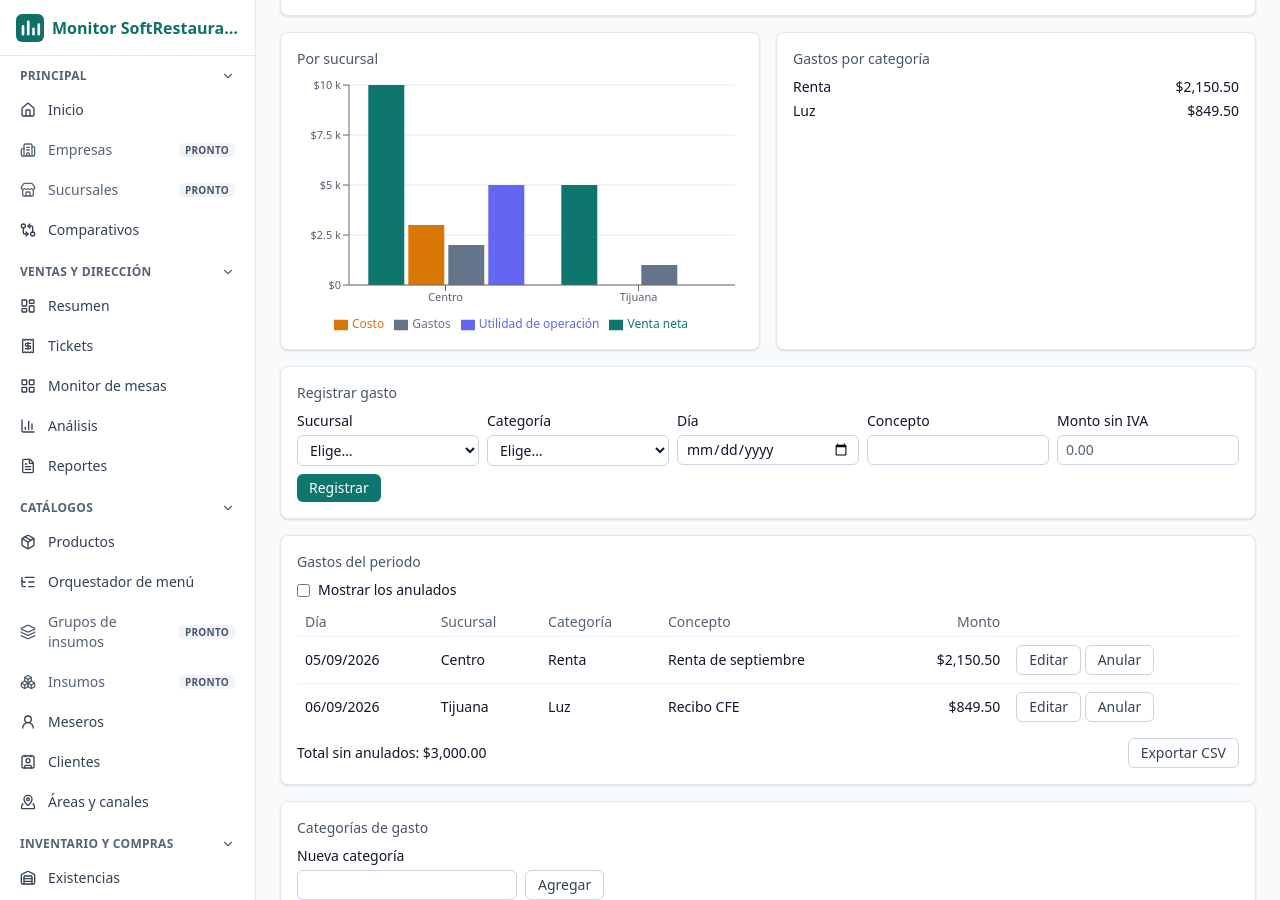
Scenario: captura de gastos › el administrador registra un gasto: POST con el body esperado y todo se vuelve a pedir
(page scrolled)
Select "Centro" in the dropdown labelled "Sucursal" at (388, 450), box x1=297 y1=435 x2=479 y2=466
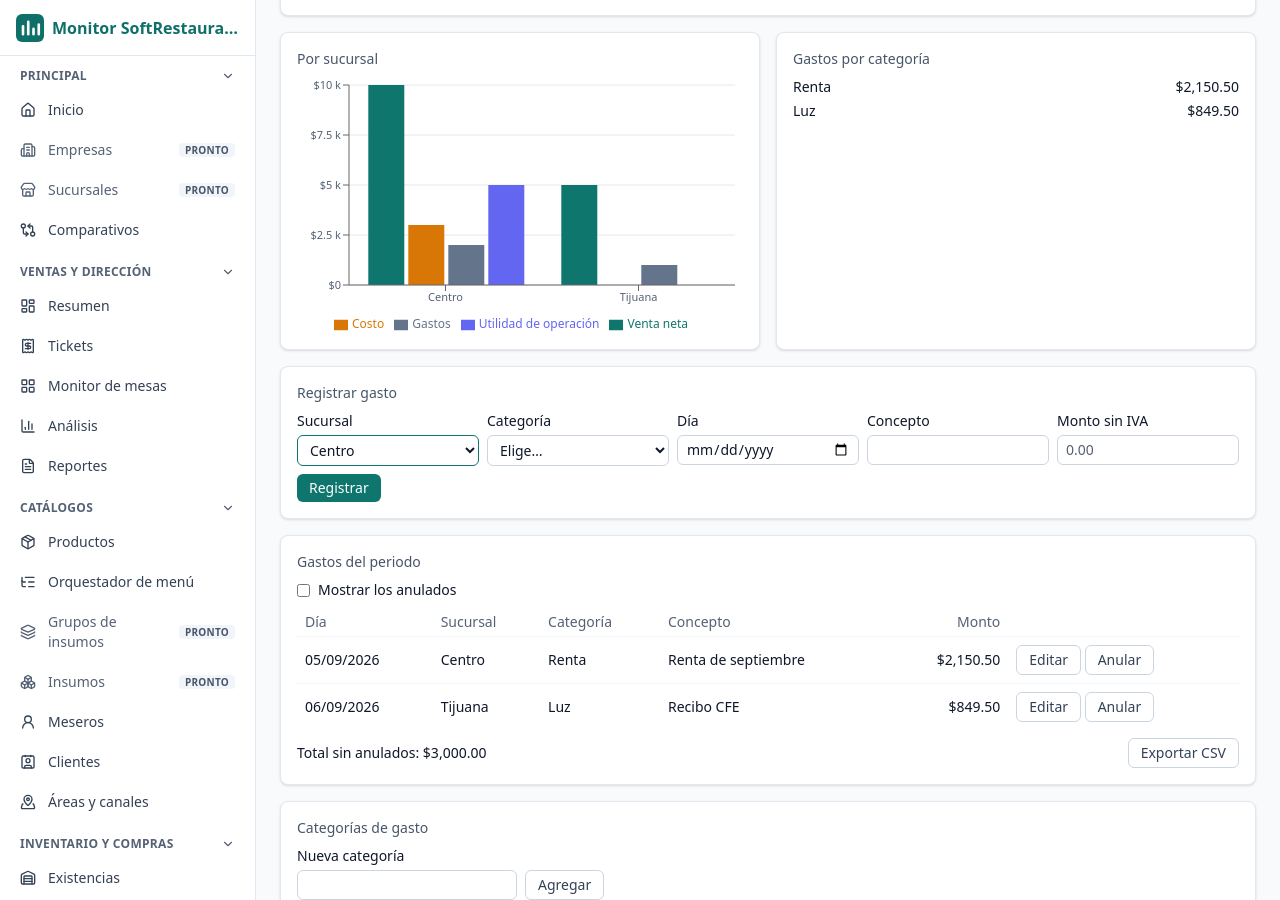
Select "Luz" in the dropdown labelled "Categoría" at (578, 450), box x1=487 y1=435 x2=669 y2=466
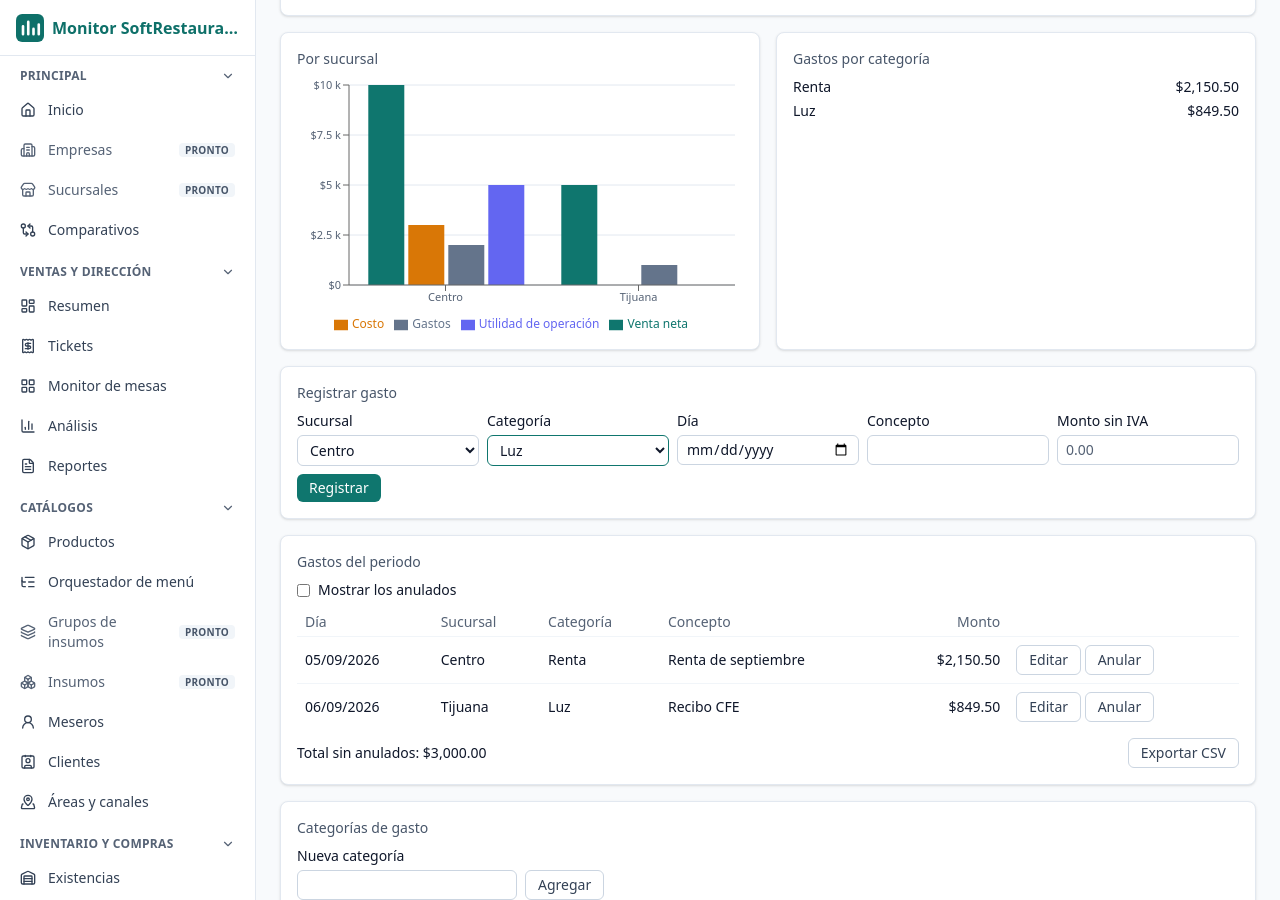
Type "2026-09-20" into the date field labelled "Día" at (768, 450), box x1=677 y1=435 x2=859 y2=465
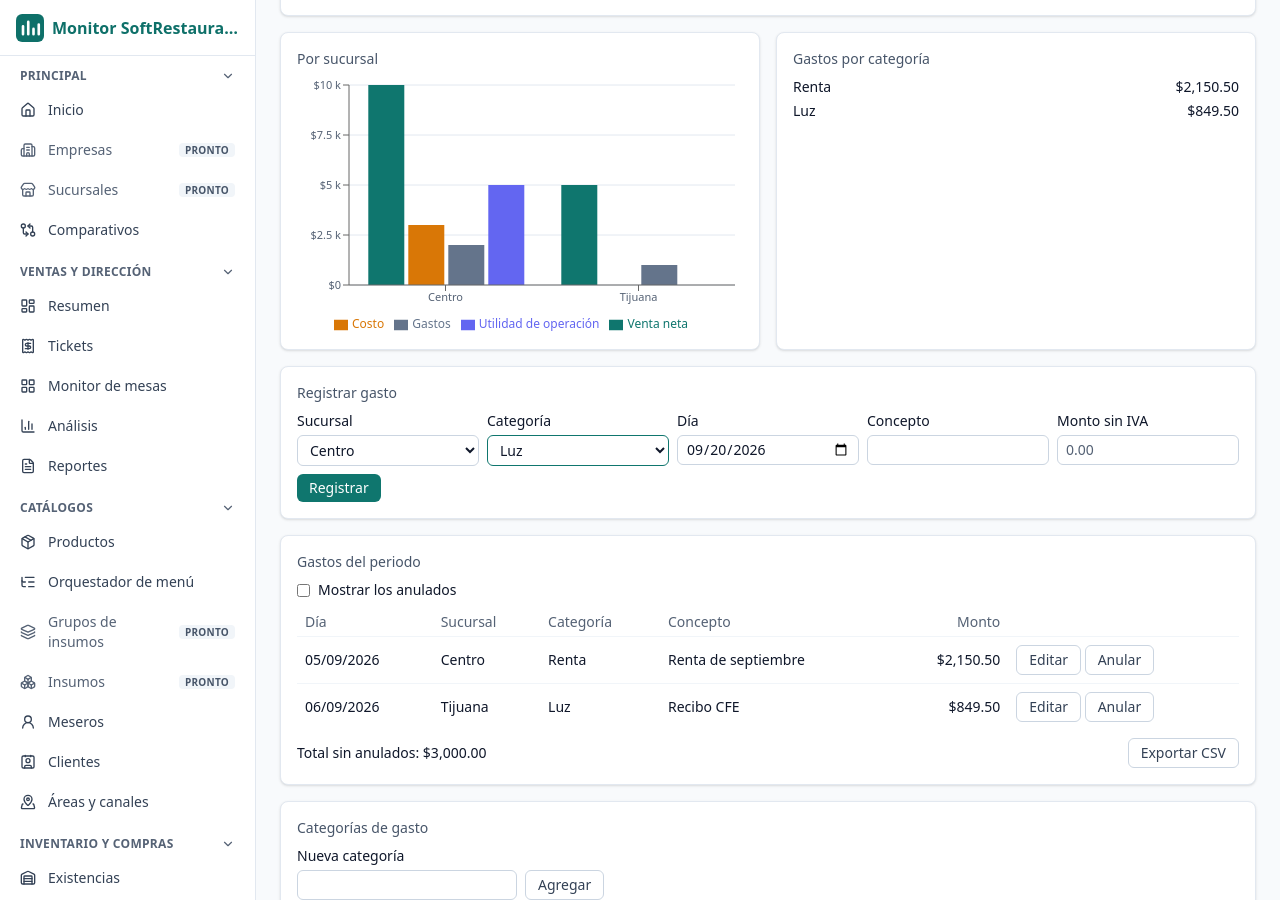
Type "  Recibo de gas  " into the field labelled "Concepto" at (958, 450), box x1=867 y1=435 x2=1049 y2=465
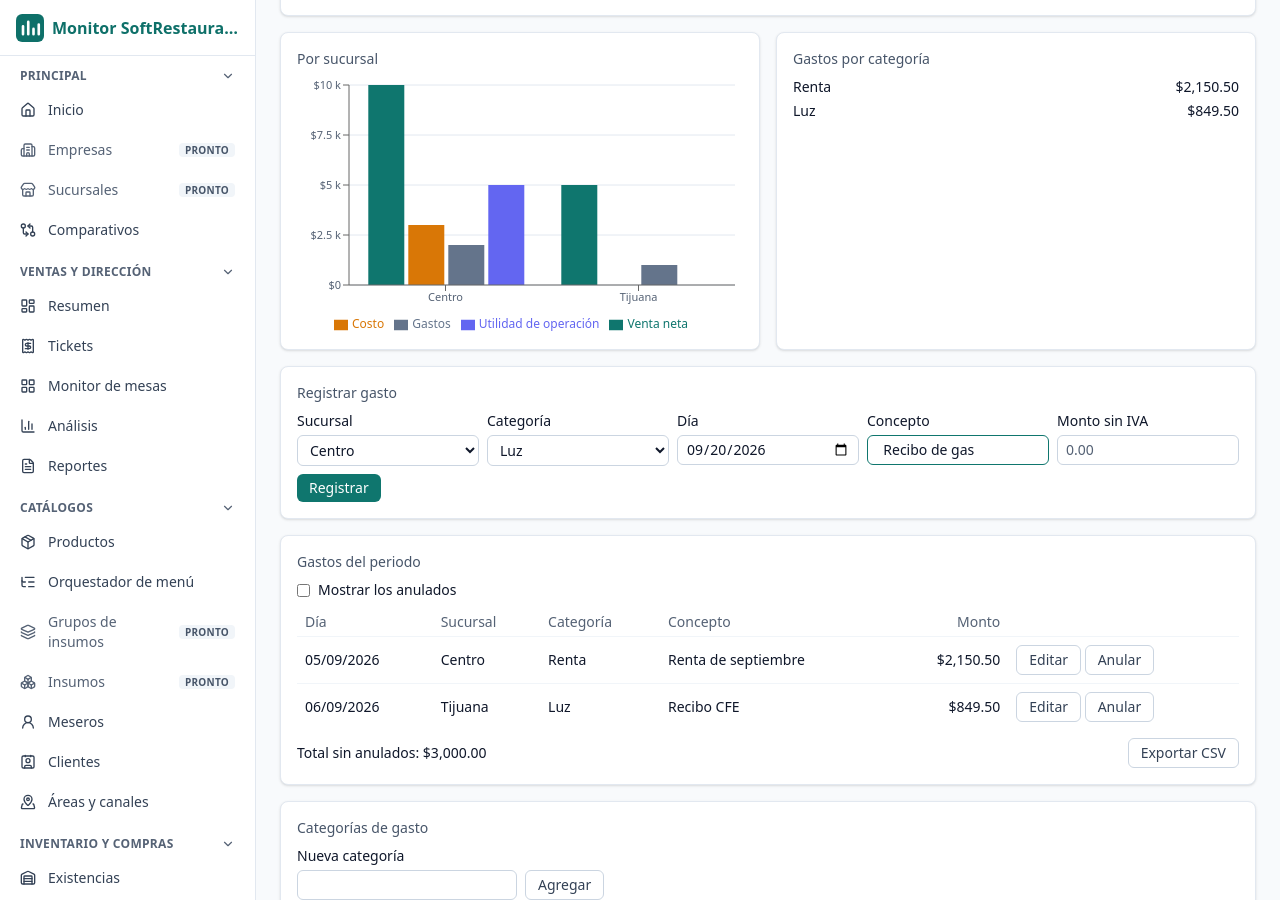
Type " 1250.5 " into the field labelled "Monto sin IVA" at (1148, 450), box x1=1057 y1=435 x2=1239 y2=465
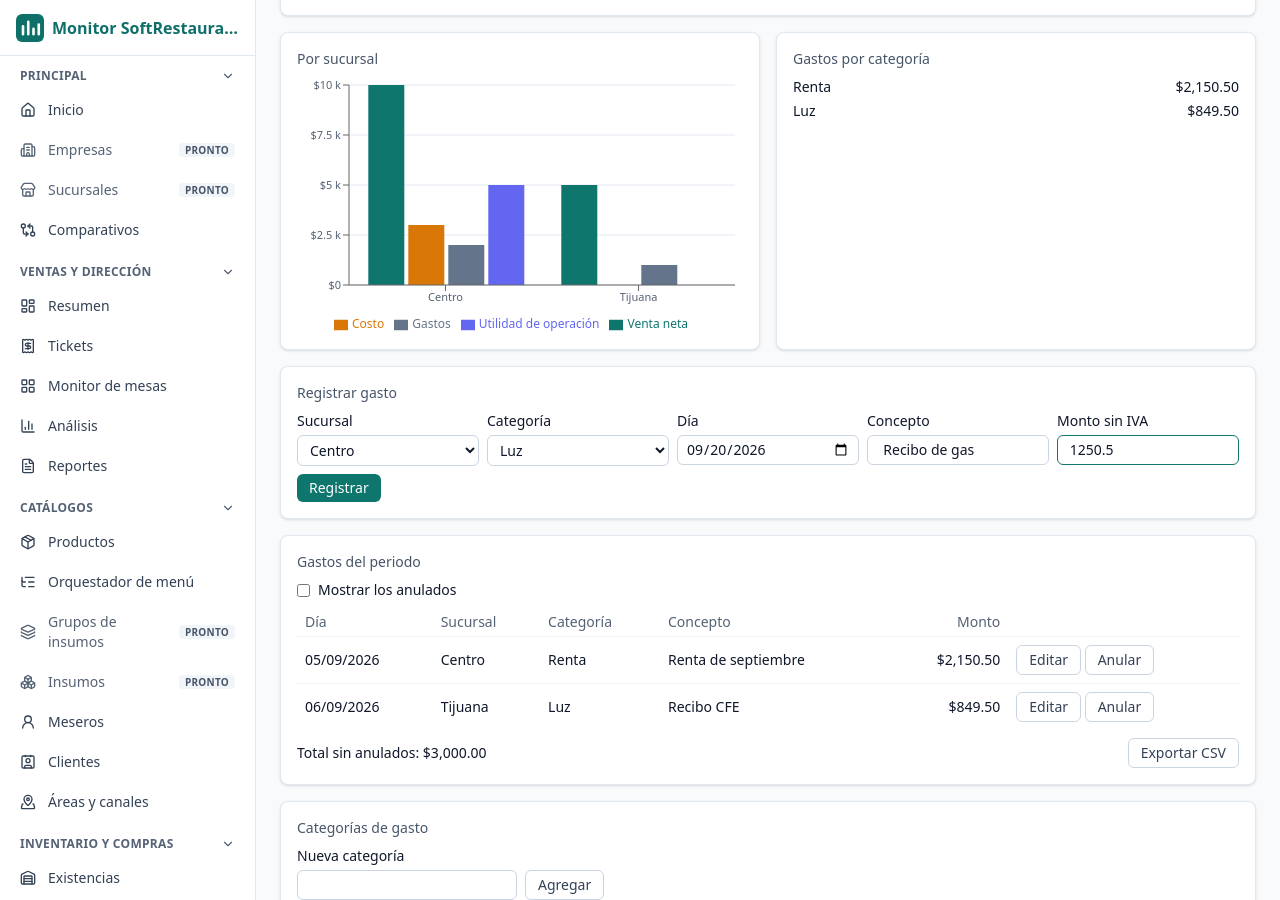
Click the button "Registrar" at (339, 488), box x1=297 y1=474 x2=381 y2=502
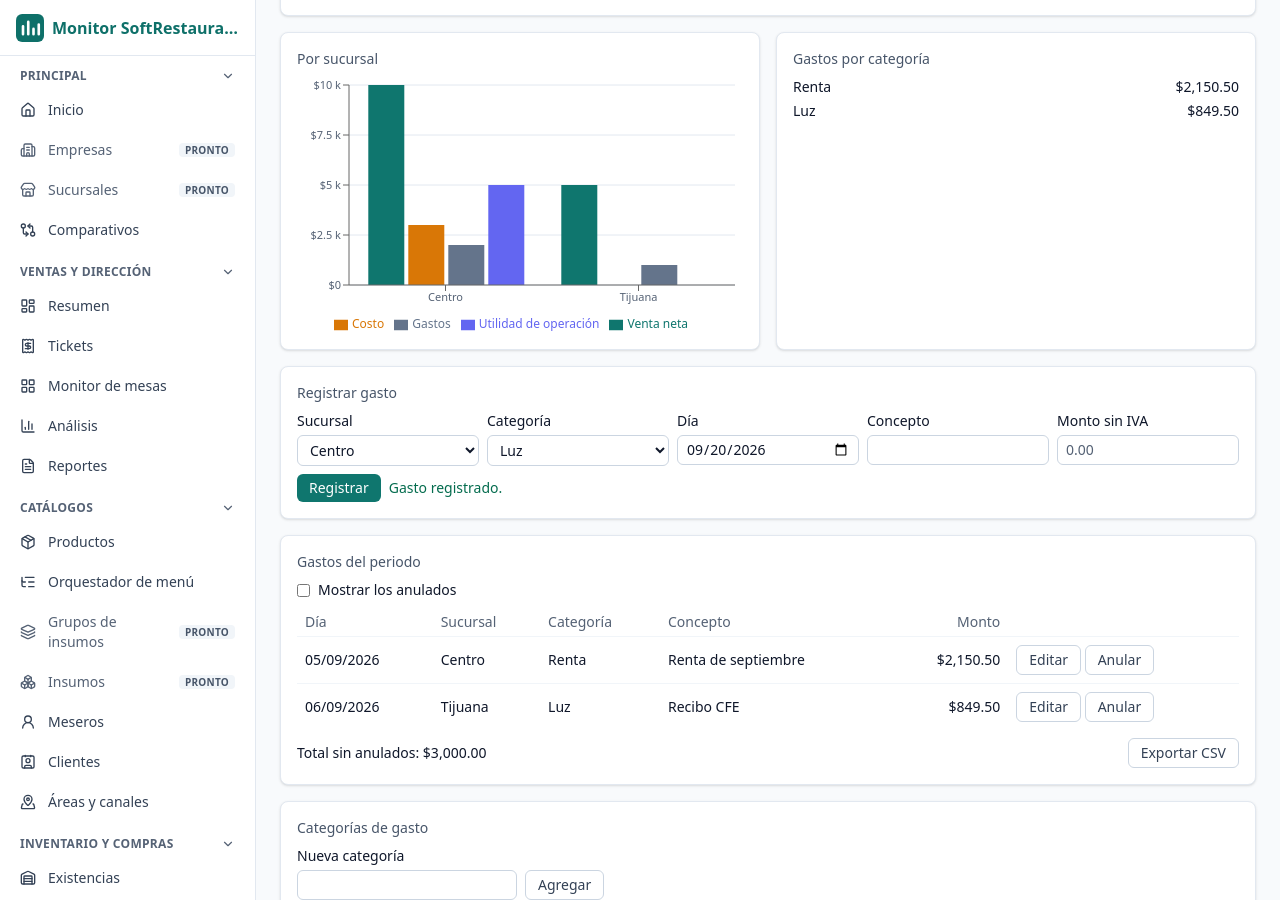
expect the message reads "Gasto registrado.": met, box x1=389 y1=478 x2=502 y2=497
expect the field labelled "Concepto" is empty: met, box x1=867 y1=435 x2=1049 y2=465
expect the field labelled "Monto sin IVA" is empty: met, box x1=1057 y1=435 x2=1239 y2=465
